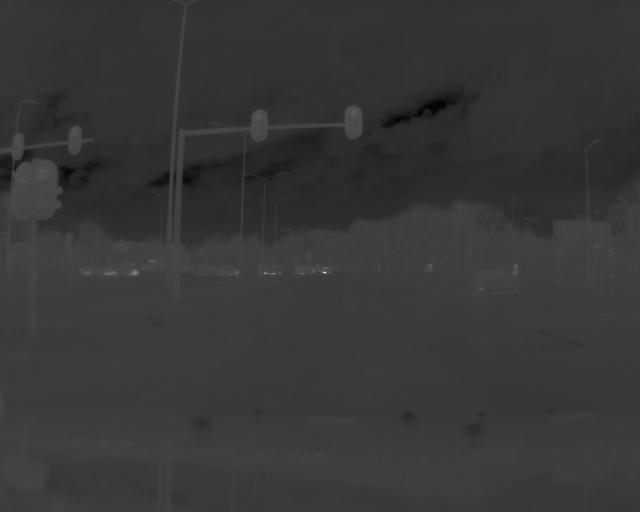car: (80, 262, 118, 278)
